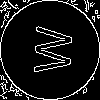W: (25, 25, 73, 75)
